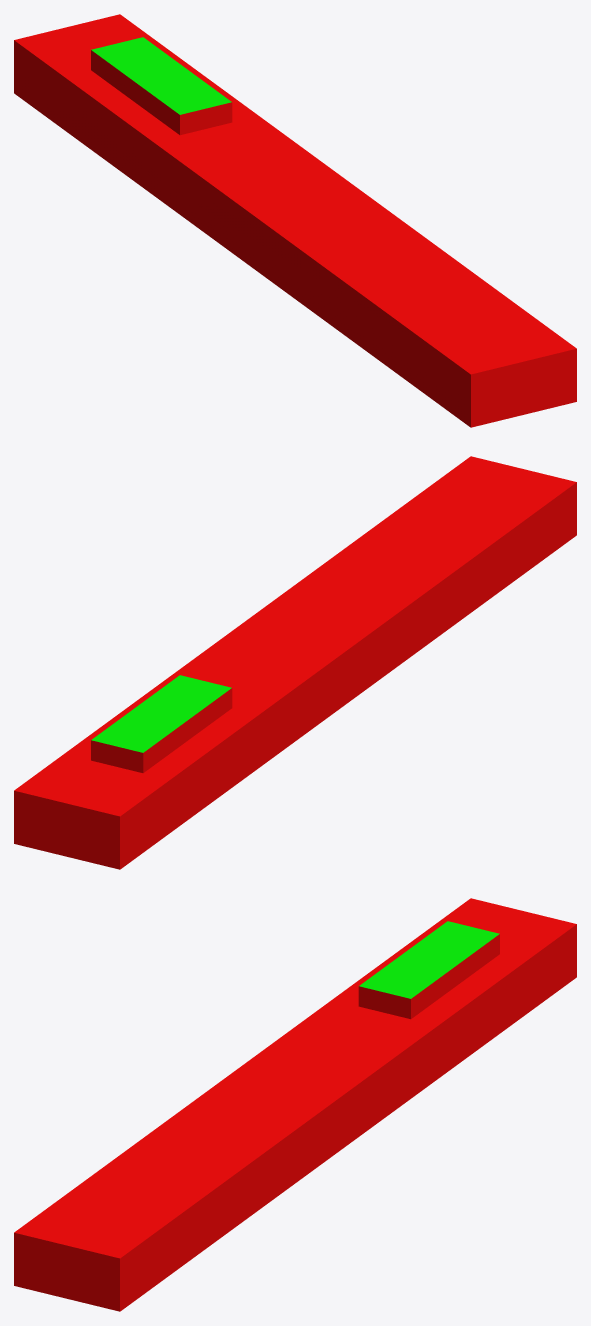
The model's file is labeled.obj.
3 views of the same model, one above another, from view 1: azimuth 30°, elevation 25°; view 2: azimuth 150°, elevation 25°; view 3: azimuth 330°, elevation 25° (orthographic).
Bounding box in the file's own units: 0.019 × 0.0126 × 0.1417.
